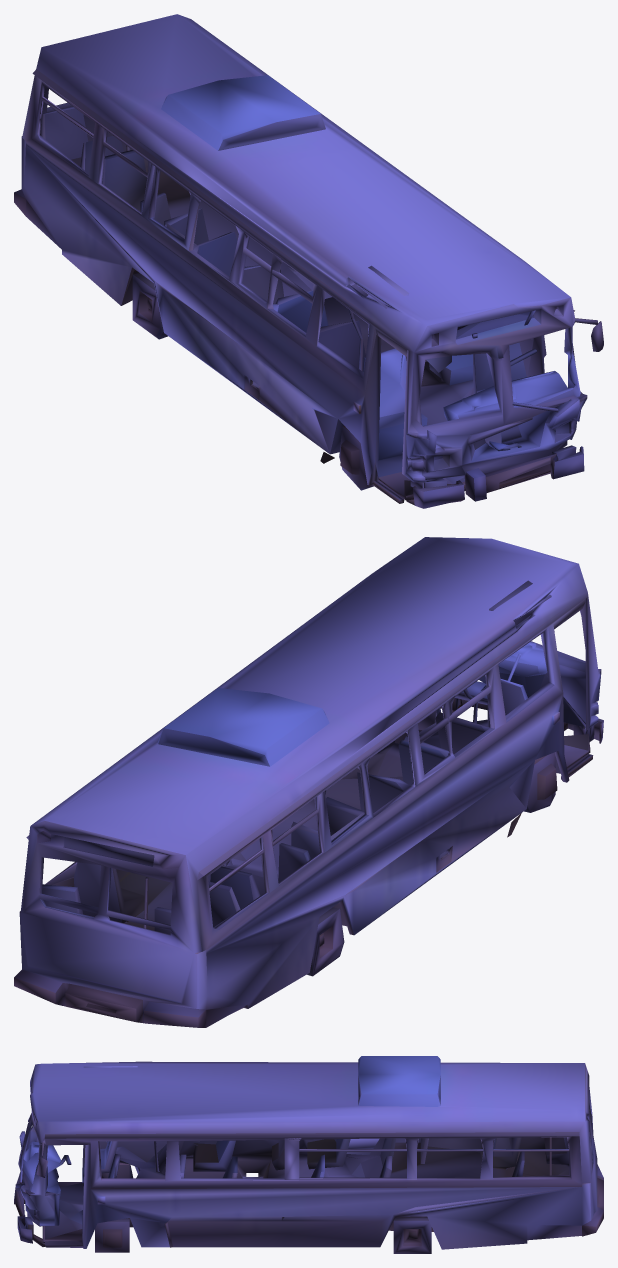
The model's file is model.progressive.glb.
3 views of the same model, one above another, from view 1: azimuth 30°, elevation 25°; view 2: azimuth 150°, elevation 25°; view 3: azimuth 270°, elevation 25° (orthographic). The views are drawn at different scales.
Visible parts, largest first — view 1: RustyBus1; view 2: RustyBus1; view 3: RustyBus1.
Part boxes in pixels (x1,y1,x2,y2): RustyBus1: (14,14,603,508); RustyBus1: (14,537,603,1027); RustyBus1: (14,1056,603,1253).
Size of the model in its own units: 0.5604 by 0.5501 by 1.89.
Materials: 1 (1 with a texture image).
